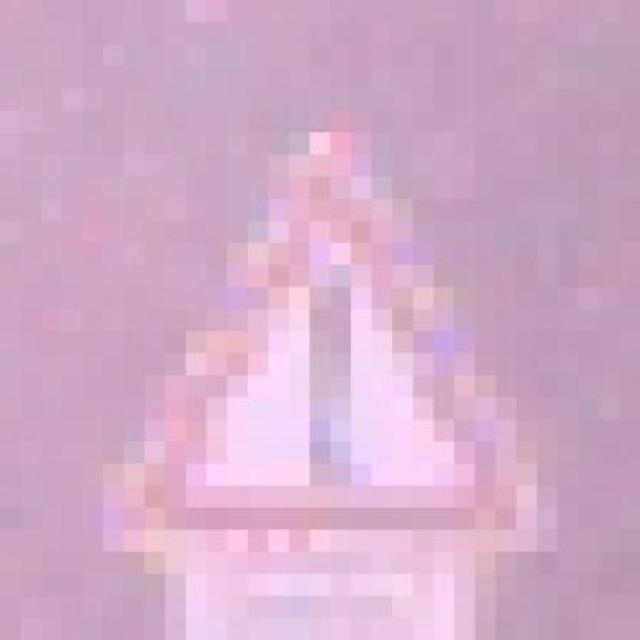Attention Please-: (30, 120, 568, 562)
